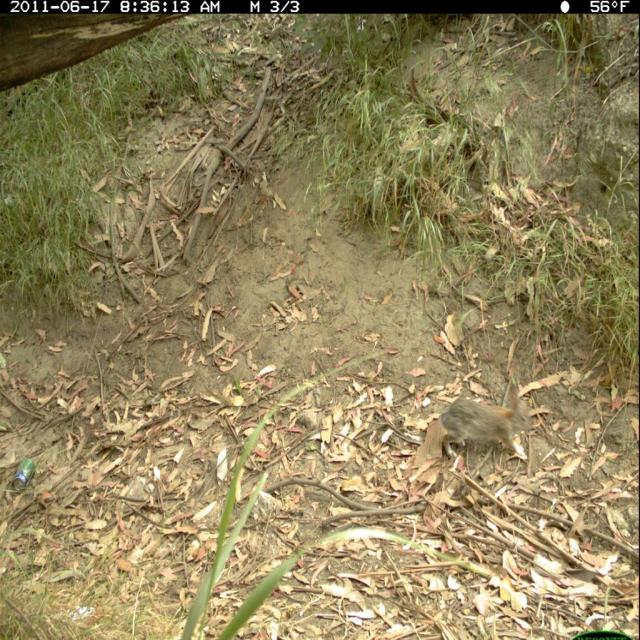rabbit: (438, 380, 537, 464)
